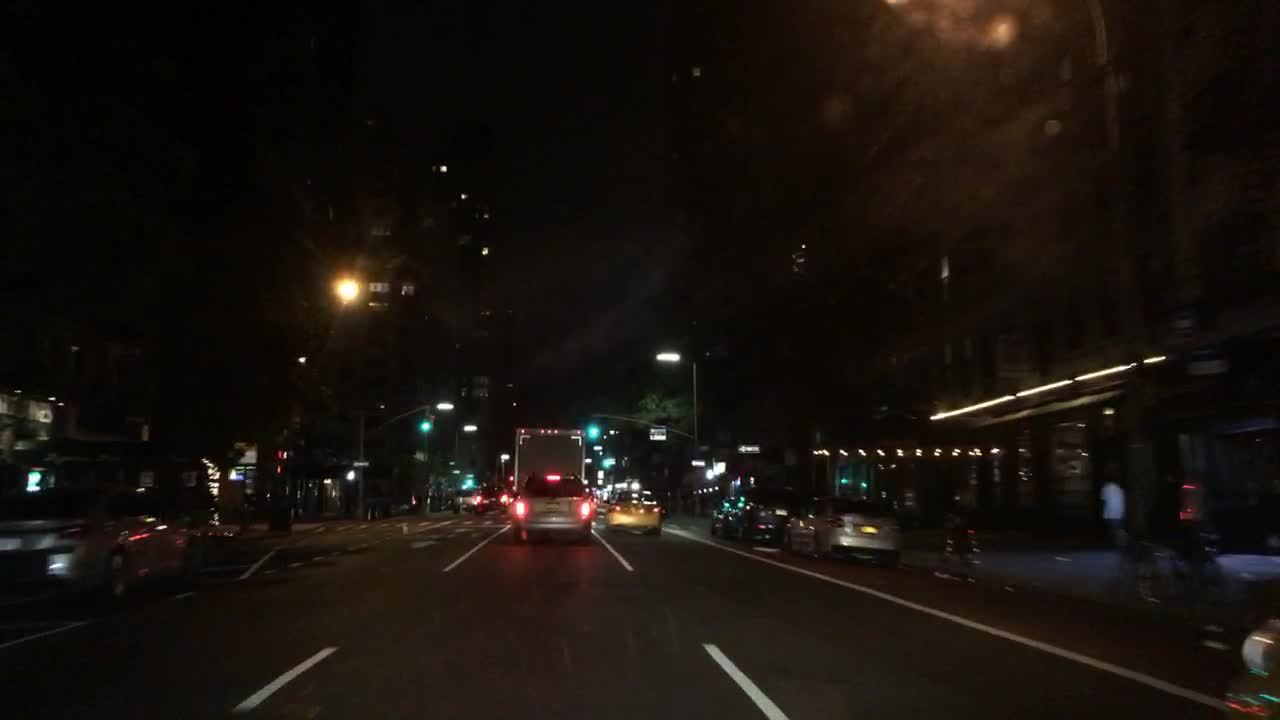bike: (1121, 542, 1182, 603)
car: (1, 486, 195, 603), (784, 497, 901, 569), (514, 474, 592, 545), (1223, 618, 1278, 717), (725, 482, 799, 545), (607, 491, 664, 536), (209, 492, 264, 535), (472, 485, 514, 515), (364, 495, 412, 521), (710, 497, 736, 536), (454, 485, 480, 510), (606, 485, 621, 503), (592, 500, 609, 515), (586, 491, 598, 506), (600, 486, 610, 503)
person: (1178, 506, 1229, 651), (932, 494, 977, 581), (1089, 468, 1125, 554)
traffic light: (585, 422, 598, 440), (418, 413, 427, 434), (424, 413, 433, 434), (272, 464, 284, 477), (462, 476, 472, 488), (600, 458, 610, 470)
traffic sign: (349, 458, 370, 470), (649, 428, 665, 440), (737, 446, 760, 453), (689, 459, 706, 468)
truck: (514, 431, 586, 485)
